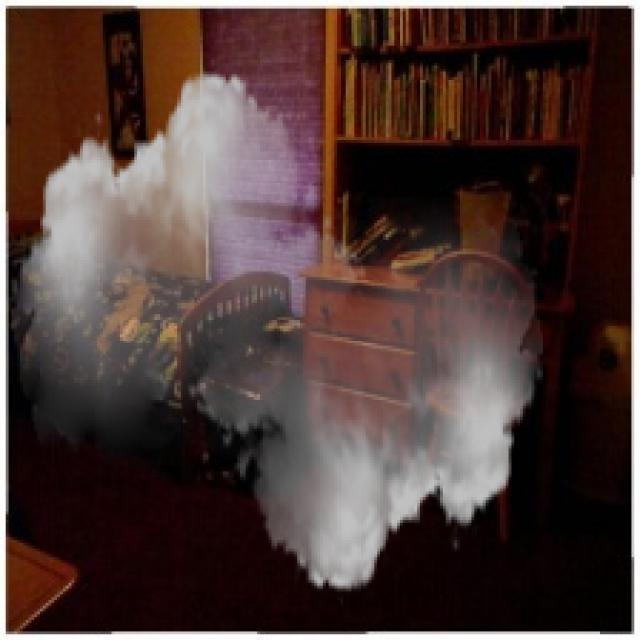Smoke: (11, 54, 543, 609)
